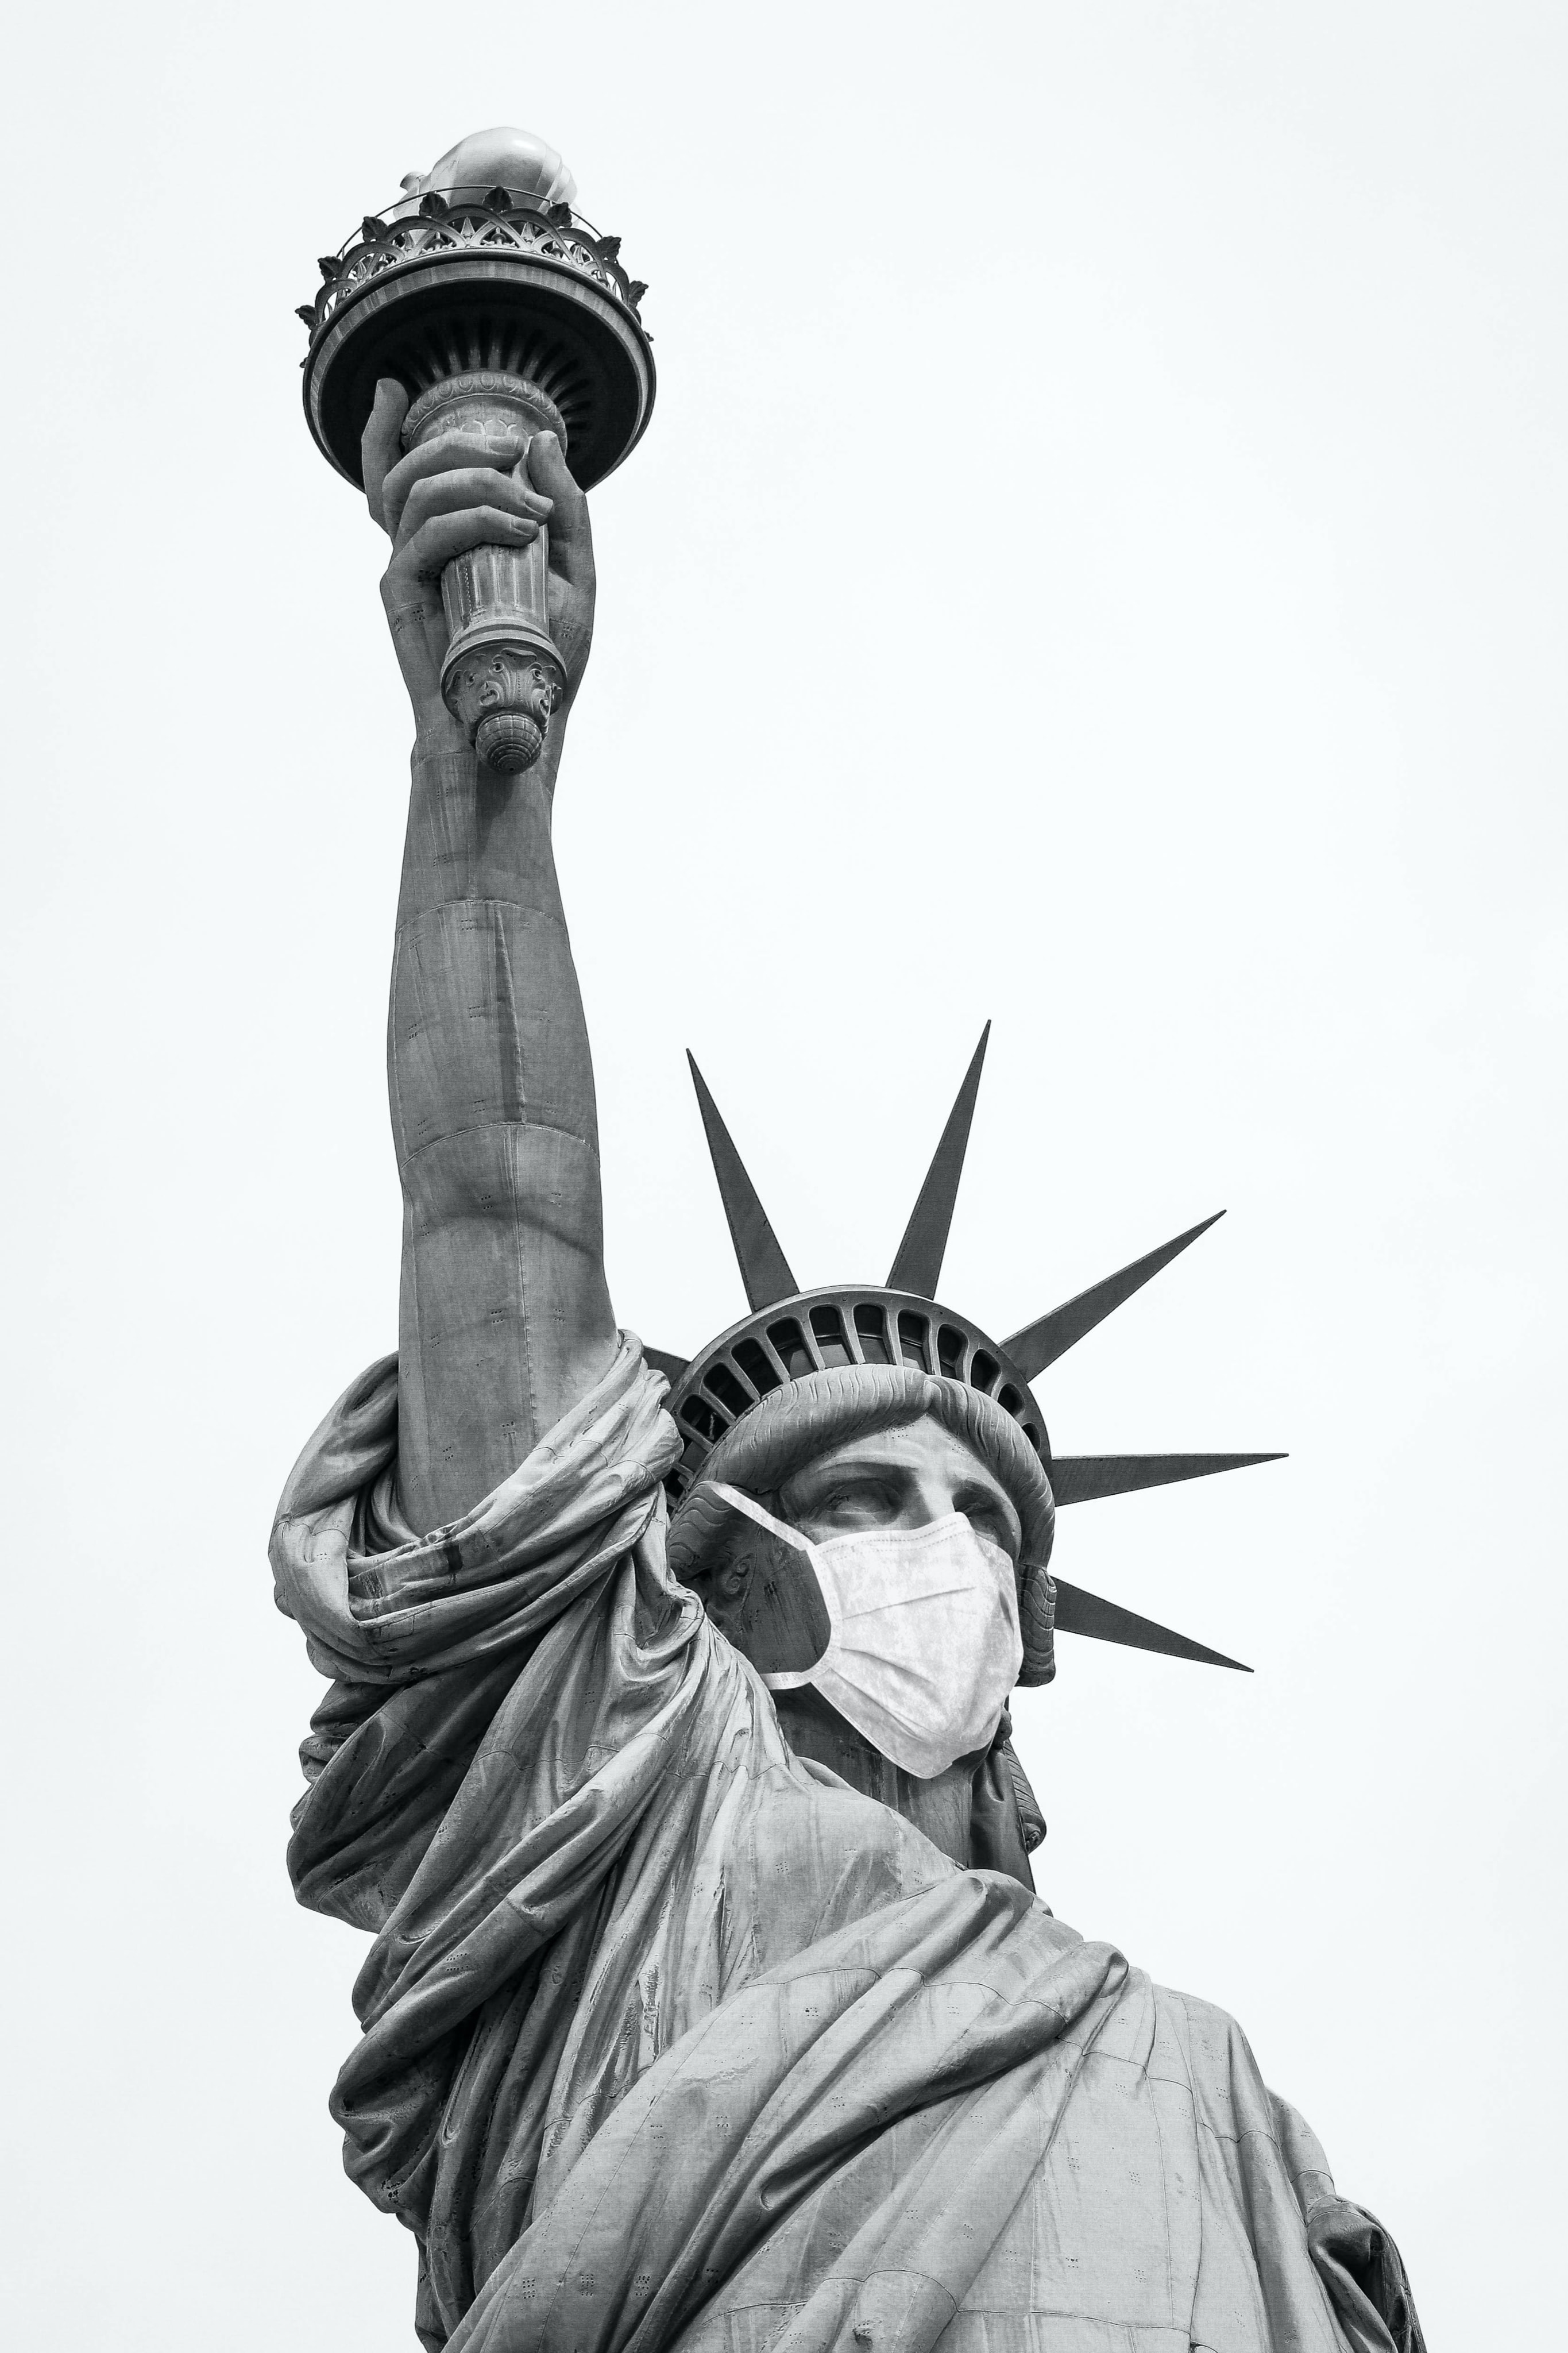mask: (730, 1505, 1045, 1777)
